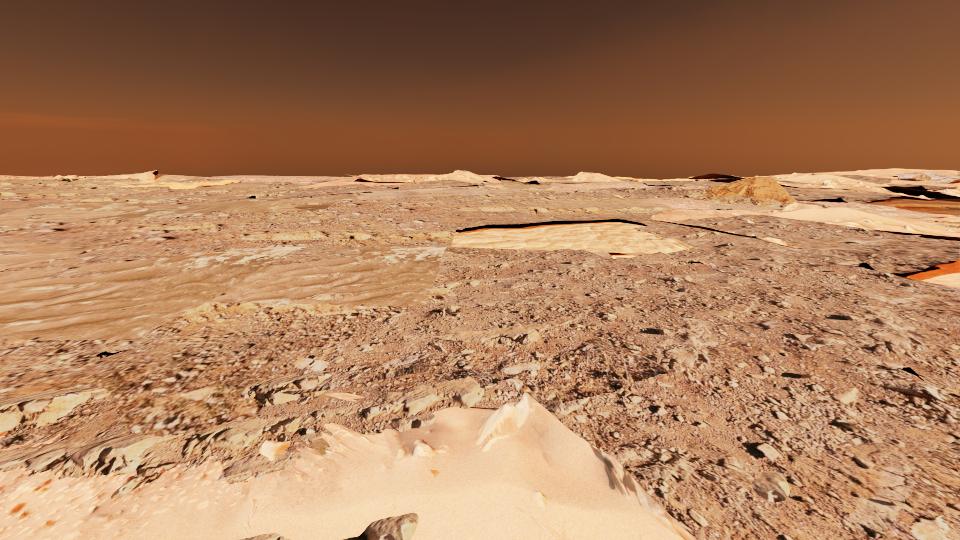bedrock: (0, 215, 959, 539), (0, 301, 408, 351), (554, 179, 905, 215), (232, 180, 564, 200), (230, 228, 455, 245), (446, 200, 671, 215), (342, 513, 418, 539), (840, 175, 958, 189), (123, 221, 282, 231), (935, 487, 959, 539), (218, 177, 339, 186), (0, 190, 151, 197), (0, 182, 140, 187), (60, 197, 155, 202), (305, 292, 354, 299), (237, 533, 288, 539), (390, 200, 442, 204), (290, 200, 334, 204), (96, 351, 121, 358), (776, 180, 807, 184), (521, 180, 551, 184), (921, 220, 959, 223), (193, 189, 250, 191), (503, 176, 534, 179), (543, 176, 573, 179), (933, 224, 959, 227), (58, 177, 74, 181), (618, 178, 638, 181), (324, 441, 329, 448)
hole: (886, 204, 959, 213)
rocks: (706, 176, 794, 202), (890, 171, 959, 183)
sand: (0, 246, 447, 338), (0, 197, 339, 231), (451, 219, 692, 258), (814, 168, 959, 190), (88, 174, 260, 188), (890, 260, 959, 286), (884, 214, 959, 236), (0, 251, 83, 269), (280, 176, 409, 187), (0, 242, 49, 250), (312, 438, 326, 455), (480, 175, 500, 182), (636, 179, 696, 181), (889, 196, 927, 199), (398, 174, 428, 177), (463, 180, 488, 182)
soil: (0, 401, 591, 539), (0, 182, 773, 279), (0, 305, 423, 436), (878, 436, 959, 539), (0, 186, 298, 210), (0, 418, 92, 452), (835, 181, 959, 206), (440, 245, 551, 262), (778, 182, 882, 197), (176, 176, 348, 183), (0, 175, 140, 183), (876, 225, 948, 239), (367, 183, 468, 190), (789, 200, 855, 210), (890, 209, 959, 217), (356, 175, 420, 182), (32, 432, 63, 446), (688, 175, 741, 182), (325, 392, 363, 400), (750, 234, 777, 243), (308, 190, 334, 194), (426, 300, 448, 304), (238, 181, 278, 183)
